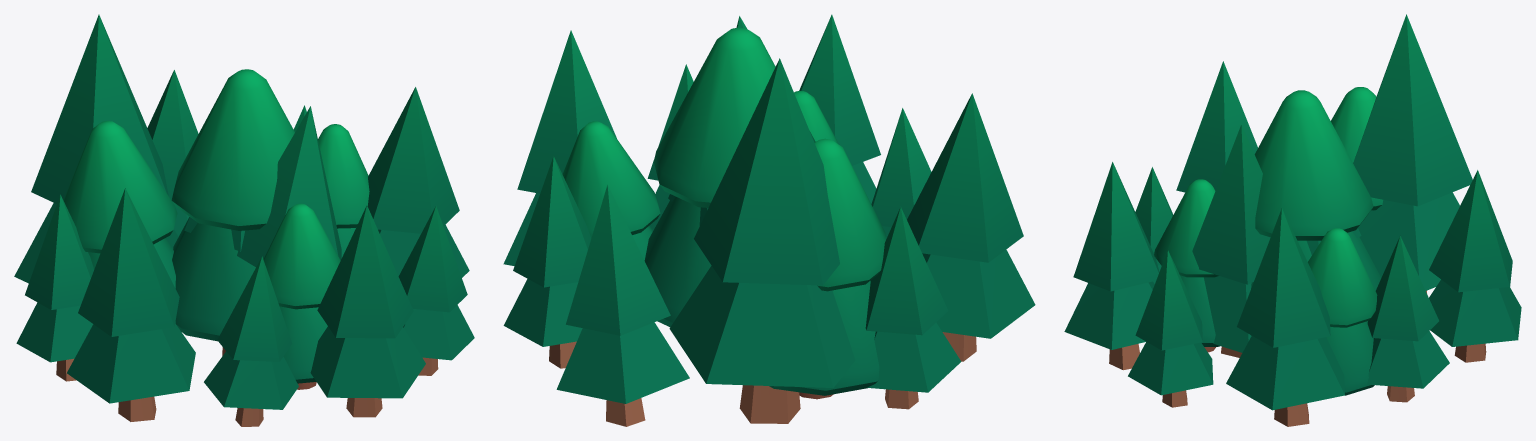
File: trees.glb
3 views of the same model, side by side, from view 1: azimuth 30°, elevation 25°; view 2: azimuth 150°, elevation 25°; view 3: azimuth 270°, elevation 25° (orthographic). The views are drawn at different scales.
Parts seen in each view (by area): view 1: trees_A_medium, trees_B_small, tree_single_B; view 2: trees_A_medium, trees_B_small, tree_single_B; view 3: trees_A_medium, trees_B_small, tree_single_B.
Boxes of the visible parts, bbox=[...] form: trees_A_medium: bbox=[14, 14, 474, 426]; trees_B_small: bbox=[63, 121, 369, 389]; tree_single_B: bbox=[171, 69, 294, 355]; trees_A_medium: bbox=[503, 14, 1035, 426]; trees_B_small: bbox=[562, 90, 886, 399]; tree_single_B: bbox=[644, 27, 815, 326]; trees_A_medium: bbox=[1064, 14, 1521, 426]; trees_B_small: bbox=[1154, 87, 1383, 395]; tree_single_B: bbox=[1251, 90, 1381, 335].
Bounding box in the file's own units: 1.75 × 1.38 × 1.81.
1 material, 1 textured.
